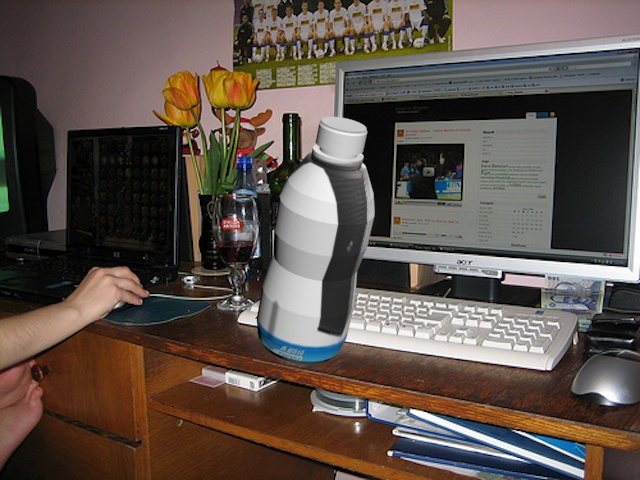bottle: (256, 113, 376, 369)
